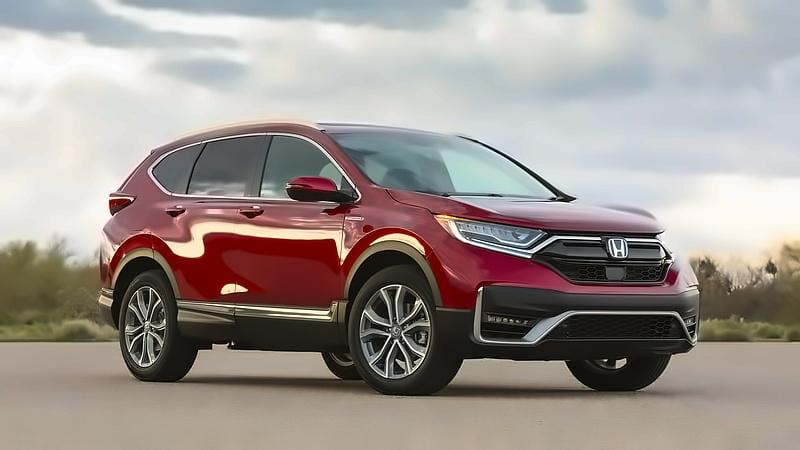Car hood: (385, 187, 668, 235)
Driver-s door - -F-R-: (234, 126, 343, 317)
Fender - -F-R-: (338, 173, 449, 329)
Fender - -R-R-: (110, 183, 157, 276)
Front bumper: (428, 243, 709, 362)
Headlight - -R-: (430, 208, 552, 261)
Passenger-s door - -R-R-: (150, 129, 255, 315)
Rear bumper: (92, 226, 124, 331)
Rear light - -R-: (106, 189, 139, 221)
Side bumper - -R-: (171, 296, 359, 357)
Side mirror - -R-: (284, 173, 353, 208)
